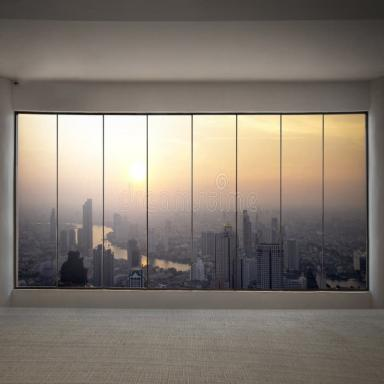glass_panel: (325, 115, 368, 288), (59, 116, 102, 286), (148, 116, 190, 288), (194, 116, 236, 288), (238, 116, 280, 288), (105, 117, 146, 286), (16, 114, 56, 286), (282, 116, 322, 288)
